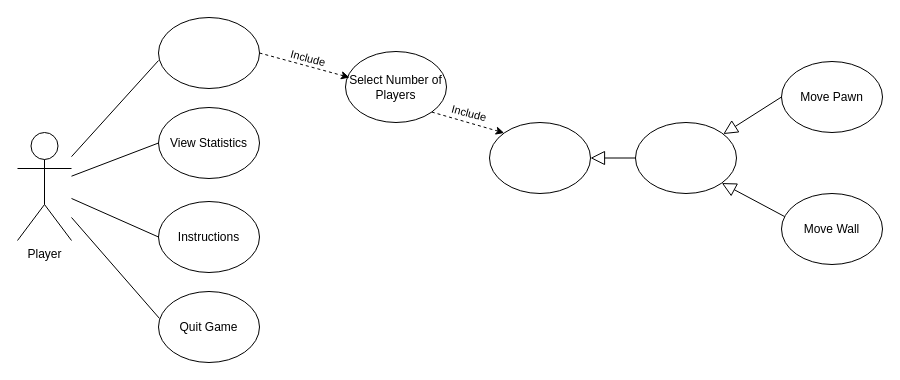
Image size: 900x380. Some labels were removed from this diagram. Each missing label, with the box of its shape:
Enter Player Names: (488, 122, 590, 194)
Make Move: (634, 122, 736, 194)
Start Game: (158, 16, 260, 88)
